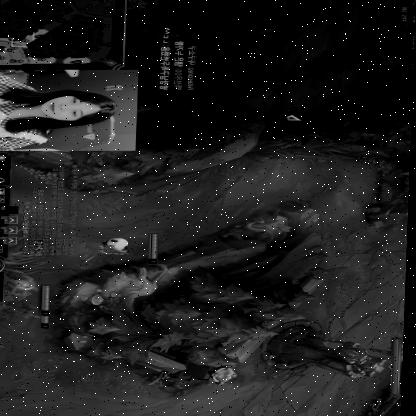streamer: (0, 70, 118, 150)
